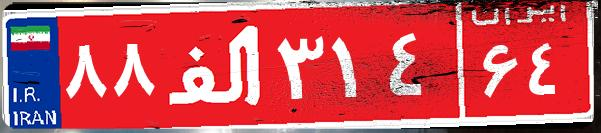1: (330, 28, 385, 110)
3: (273, 28, 330, 110)
4: (385, 28, 445, 110), (525, 38, 570, 115)
6: (475, 38, 525, 113)
8: (57, 26, 110, 107), (110, 28, 158, 105)
الف: (158, 15, 273, 115)
